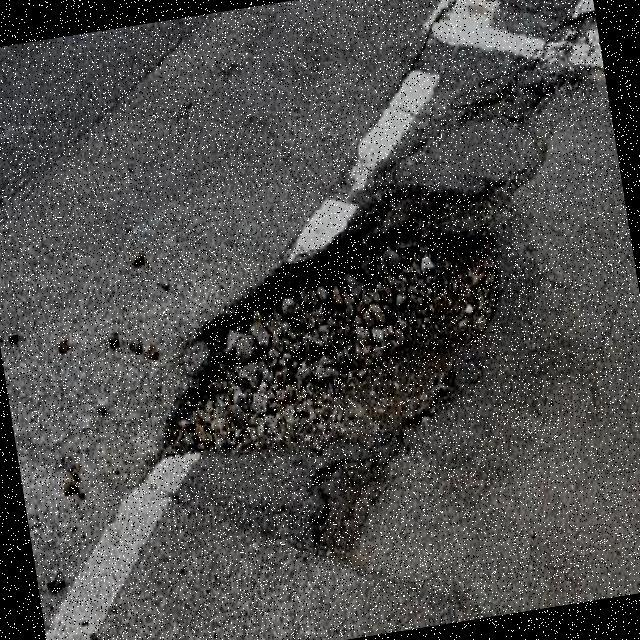Pothole: (161, 191, 502, 549)
